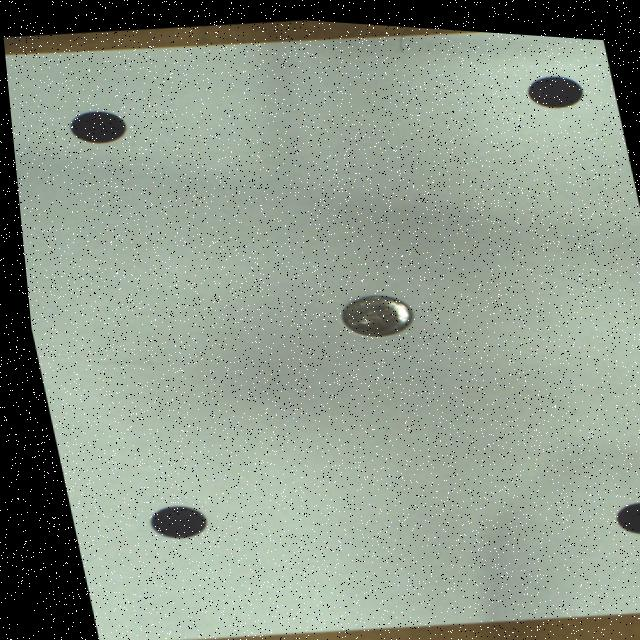space: (138, 504, 196, 536), (66, 110, 121, 142), (526, 69, 581, 100), (605, 493, 640, 525)
tail1bath: (334, 290, 405, 332)
